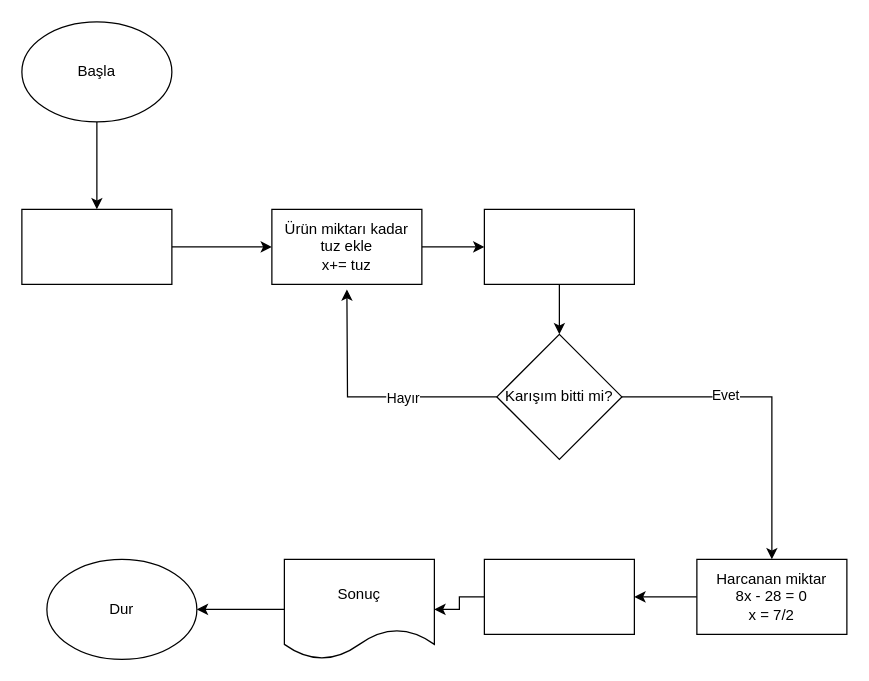
Some shapes in this 869 by 681 pixel diagram are drawn without their labels. Each missing label, with the centre of its shape:
"4 gram kullan/çıkart x - 4" goes at (x=558, y=246).
"Toplam harcanan tuz 7x -16 17/2" goes at (x=558, y=596).
"x = Ürün miktarı" goes at (x=96, y=246).
